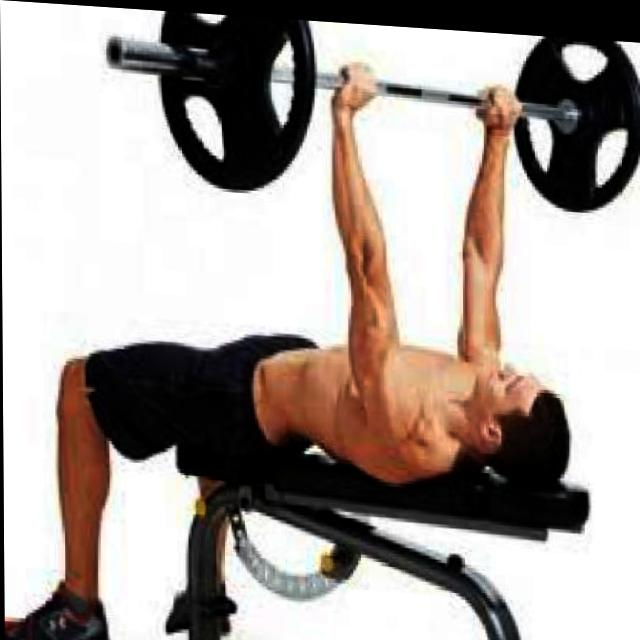barbell: (98, 6, 322, 196)
